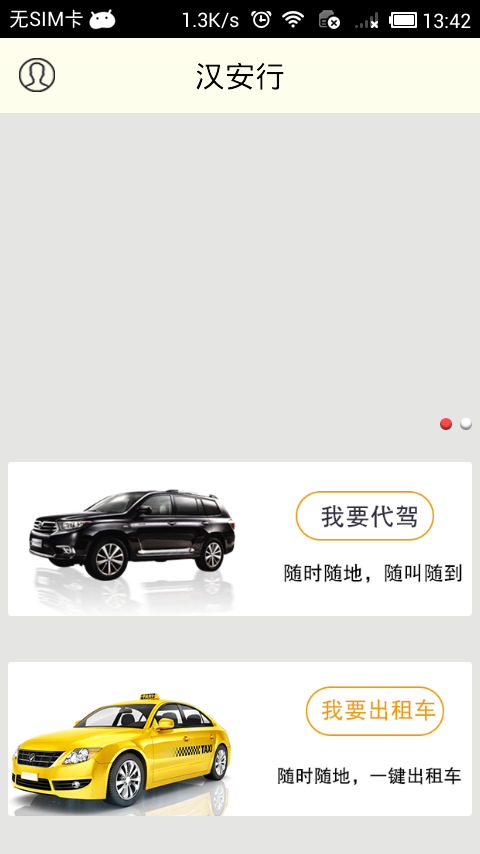button: (292, 481, 439, 551), (299, 680, 452, 741)
imgview: (10, 688, 245, 820), (20, 481, 242, 612), (12, 52, 62, 101)
textview: (6, 655, 477, 822), (11, 458, 476, 621), (264, 752, 465, 800), (272, 559, 468, 596)
